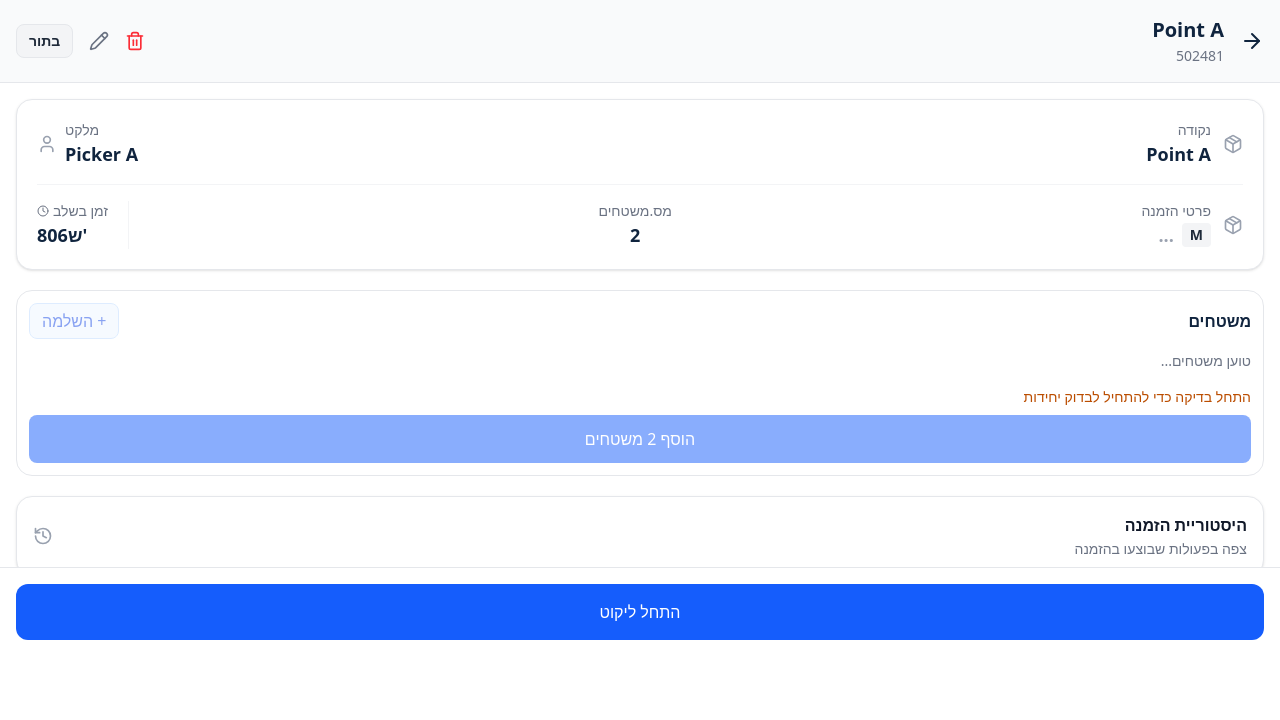
Scenario: OrderDetail check-units section › bridge failure shows the backend error and stays on the operator screen
This screenshot has width=1280, height=720.
Click the button "התחל ליקוט". click: (640, 612)
box: [16,584,1264,640]
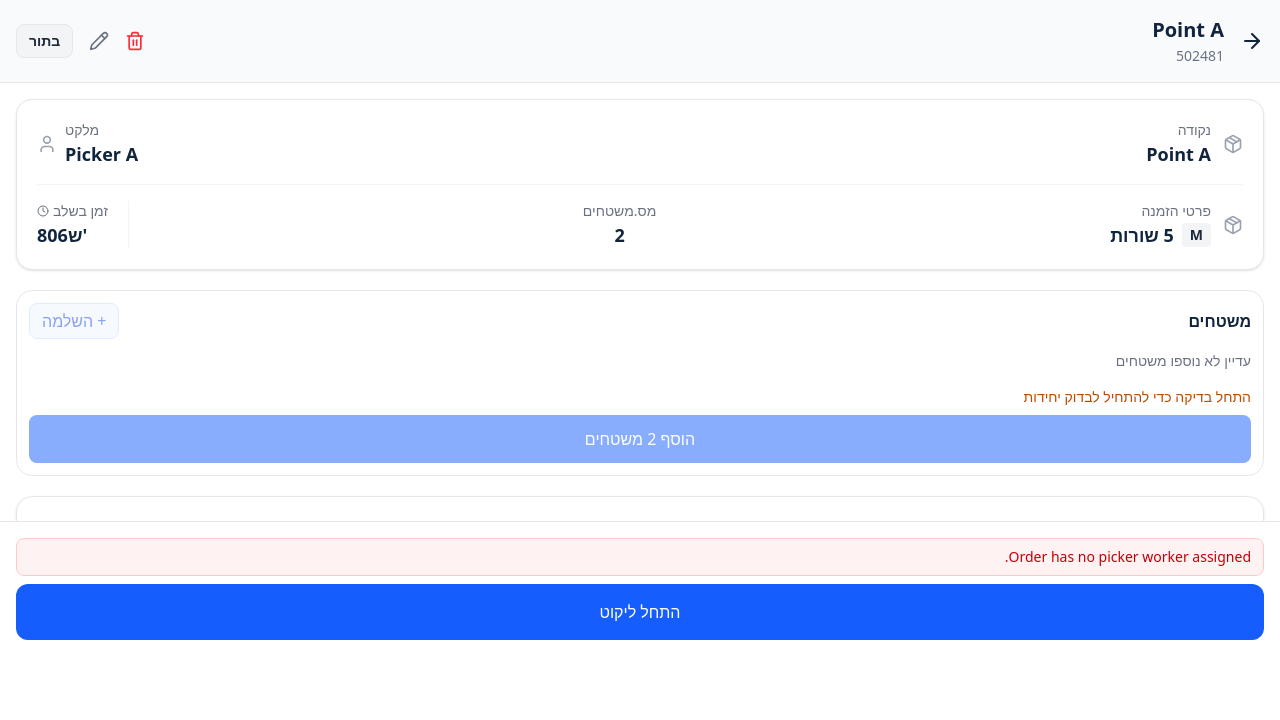
Expected: the text with test id "location-probe" reads "/operator/manual", [1145,1,1279,23]
Result: the text "Order has no picker worker assigned." is shown at [16,538,1264,576]
